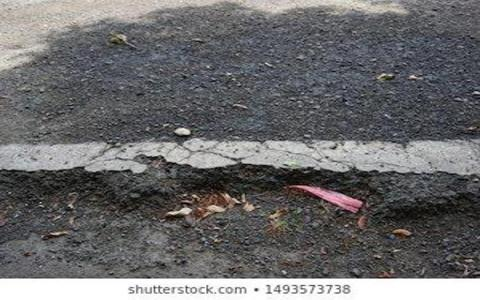patchy roads: (12, 153, 403, 265)
